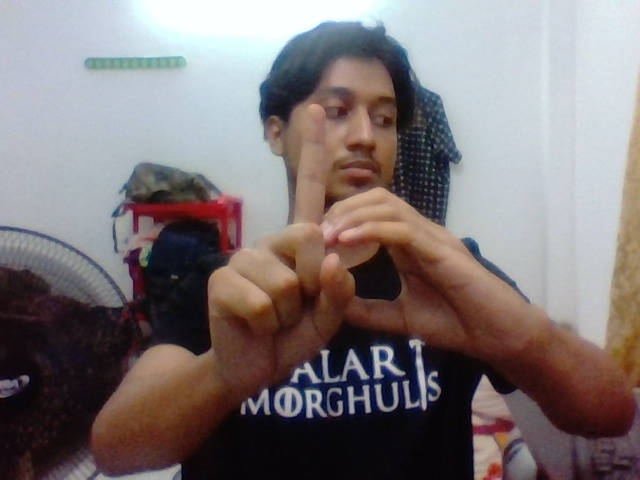D: (221, 87, 444, 345)
